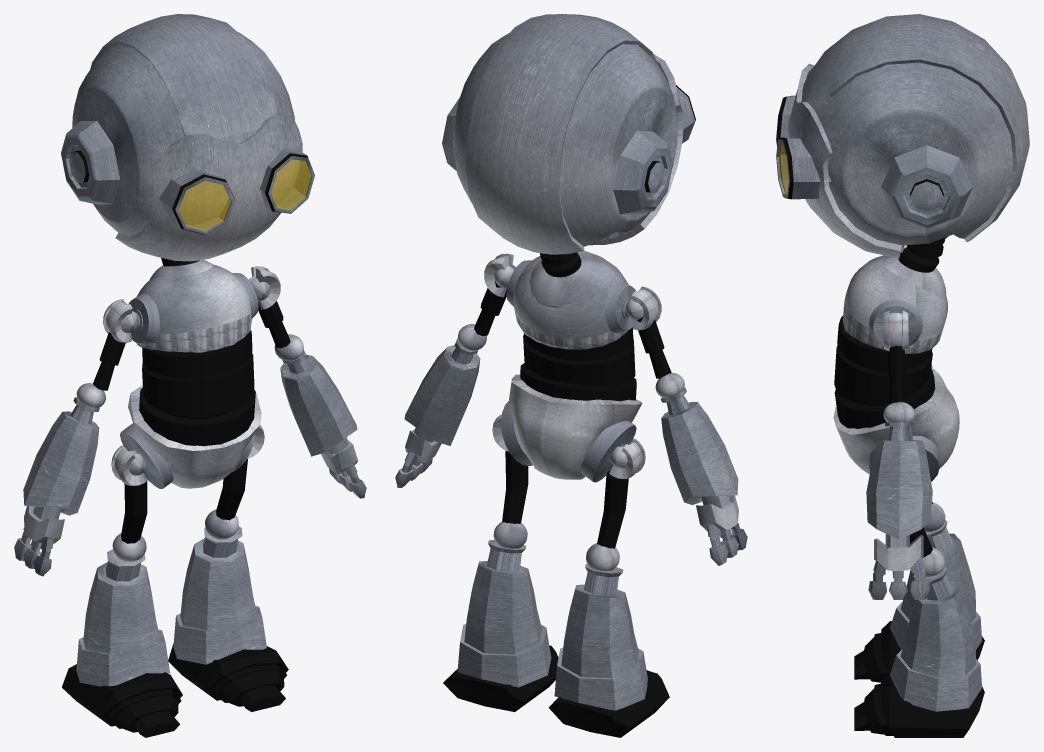
The model's file is character14.glb.
3 views of the same model, side by side, from view 1: azimuth 30°, elevation 25°; view 2: azimuth 150°, elevation 25°; view 3: azimuth 270°, elevation 25° (orthographic).
Visible parts, largest first — view 1: polySurface3, polySurface4, pCylinder5, pCylinder13, pCylinder12, pSphere6, pCylinder20, pCylinder16, pCylinder15, pCylinder18, pSphere9, pCylinder22 (+16 smaller); view 2: polySurface3, pCylinder13, pCylinder12, pSphere9, pCylinder5, pSphere6, pCylinder20, pCylinder18, pCylinder22, pCylinder16, pCylinder15, pCube2 (+17 smaller); view 3: polySurface3, pCylinder12, pCylinder5, pCylinder18, pCylinder3, pSphere6, pCylinder15, polySurface4, pSphere9, pCube1, pCylinder13, pCylinder1 (+10 smaller).
Part boxes in pixels (x1,y1,x2,y2): polySurface3: [72, 14, 294, 235]; polySurface4: [115, 113, 302, 261]; pCylinder5: [139, 330, 255, 446]; pCylinder13: [76, 549, 170, 686]; pCylinder12: [173, 526, 266, 664]; pSphere6: [136, 264, 251, 352]; pCylinder20: [23, 397, 99, 515]; pCylinder16: [62, 664, 182, 737]; pCylinder15: [168, 643, 288, 711]; pCylinder18: [280, 349, 357, 456]; pSphere9: [128, 385, 261, 488]; pCylinder22: [61, 121, 120, 204]; polySurface3: [453, 14, 677, 254]; pCylinder13: [554, 564, 647, 710]; pCylinder12: [457, 540, 551, 687]; pSphere9: [509, 374, 642, 479]; pCylinder5: [520, 327, 636, 401]; pSphere6: [513, 251, 627, 349]; pCylinder20: [661, 387, 738, 504]; pCylinder18: [404, 338, 480, 445]; pCylinder22: [613, 131, 672, 214]; pCylinder16: [548, 670, 669, 737]; pCylinder15: [443, 645, 558, 711]; pCube2: [696, 495, 747, 565]; polySurface3: [801, 14, 1029, 252]; pCylinder12: [890, 566, 981, 711]; pCylinder5: [834, 315, 935, 428]; pCylinder18: [866, 422, 932, 539]; pCylinder3: [881, 145, 972, 228]; pSphere6: [843, 255, 947, 353]; pCylinder15: [854, 670, 984, 737]; polySurface4: [787, 63, 901, 258]; pSphere9: [833, 367, 959, 474]; pCube1: [868, 534, 929, 599]; pCylinder13: [890, 520, 981, 649]; pCylinder1: [776, 137, 831, 199].
Size of the model in its own units: 9.06 by 17.6 by 6.01.
3 materials, 1 textured.
